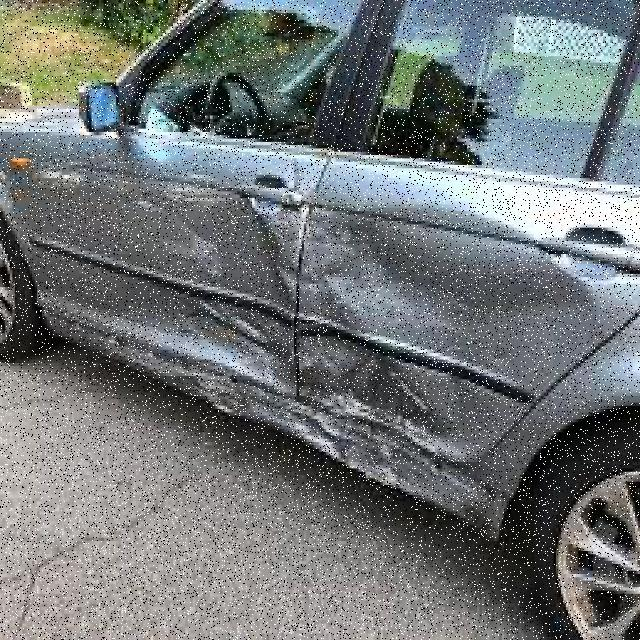RunningBoard-Dent: (282, 406, 448, 488), (109, 353, 267, 422)
doorouter-dent: (300, 162, 567, 400), (89, 148, 299, 352)
